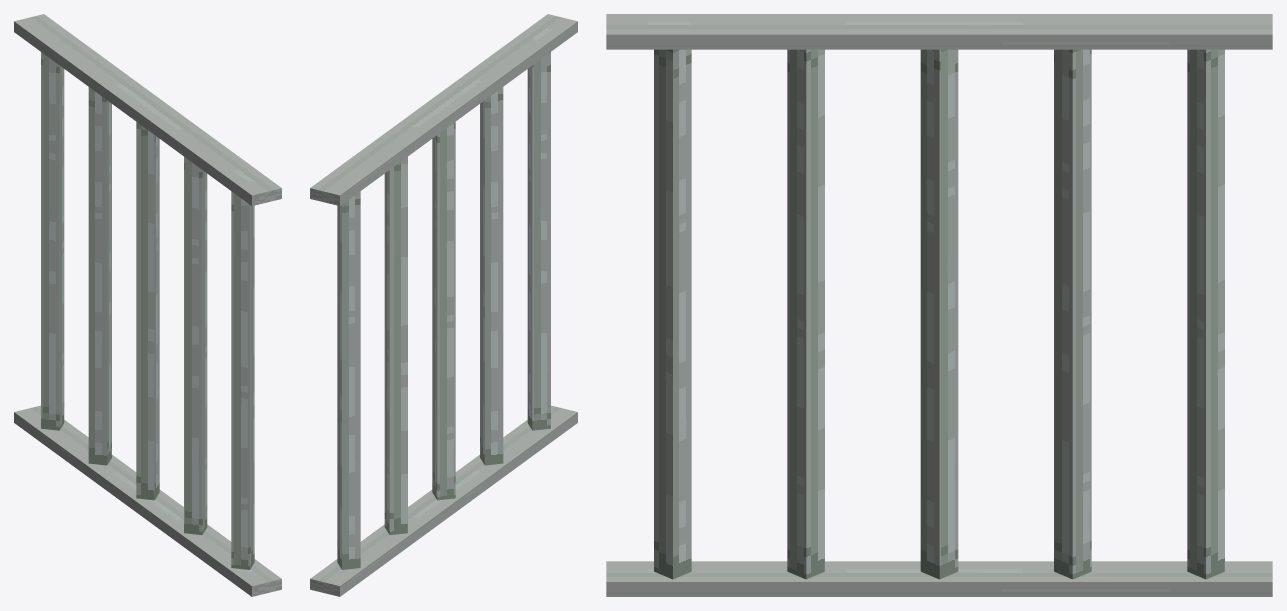
File: Prison_Bars1.fbx
3 renders of one model, left to right at view 1: azimuth 30°, elevation 25°; view 2: azimuth 150°, elevation 25°; view 3: azimuth 270°, elevation 25°, orthographic. The views are drawn at different scales.
Visible parts, largest first — view 1: Cube.007, Cube.004, Cube.003, Cube.002, Cube.006, Cube.005, Cube.008; view 2: Cube.007, Cube.005, Cube.006, Cube.002, Cube.003, Cube.004, Cube.008; view 3: Cube.007, Cube.008, Cube.002, Cube.003, Cube.004, Cube.005, Cube.006.
Boxes of the visible parts, x1,y1,x2,y2 form: Cube.007: [14, 14, 281, 205]; Cube.004: [88, 87, 111, 465]; Cube.003: [231, 191, 254, 569]; Cube.002: [136, 122, 159, 500]; Cube.006: [41, 52, 64, 430]; Cube.005: [184, 157, 207, 534]; Cube.008: [14, 405, 281, 596]; Cube.007: [310, 14, 577, 205]; Cube.005: [480, 87, 503, 465]; Cube.006: [337, 191, 360, 569]; Cube.002: [432, 122, 455, 500]; Cube.003: [527, 52, 550, 430]; Cube.004: [384, 157, 407, 534]; Cube.008: [310, 405, 577, 596]; Cube.007: [606, 14, 1272, 49]; Cube.008: [606, 561, 1272, 596]; Cube.002: [920, 49, 958, 579]; Cube.003: [654, 49, 691, 579]; Cube.004: [1054, 49, 1091, 579]; Cube.005: [787, 49, 824, 579]; Cube.006: [1187, 49, 1224, 579].
Bounding box in the file's own units: 4 × 3.72 × 0.2916.
